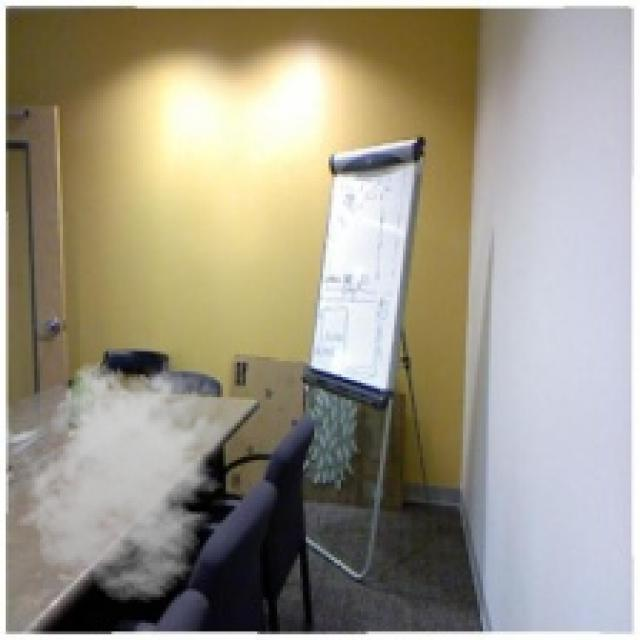Smoke: (20, 354, 237, 603)
